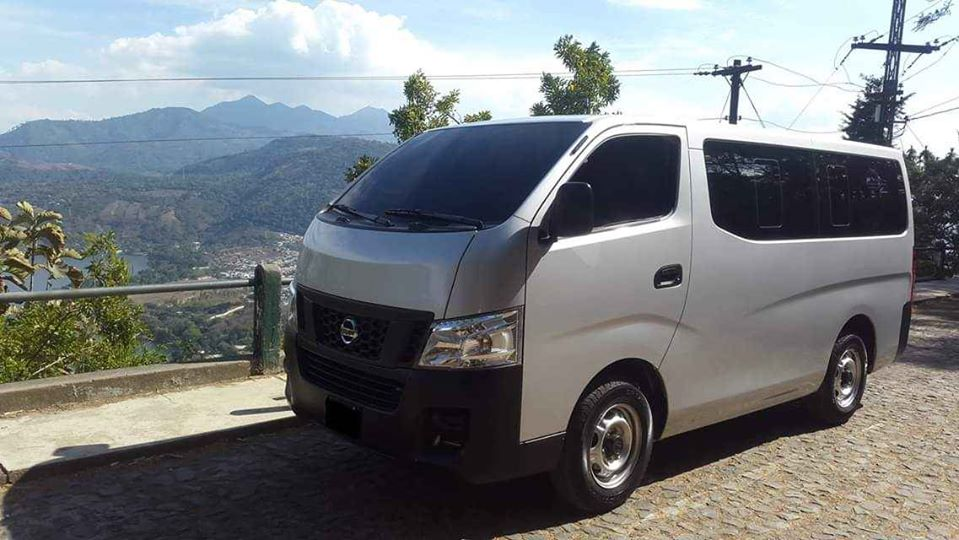bus: (261, 106, 920, 512)
